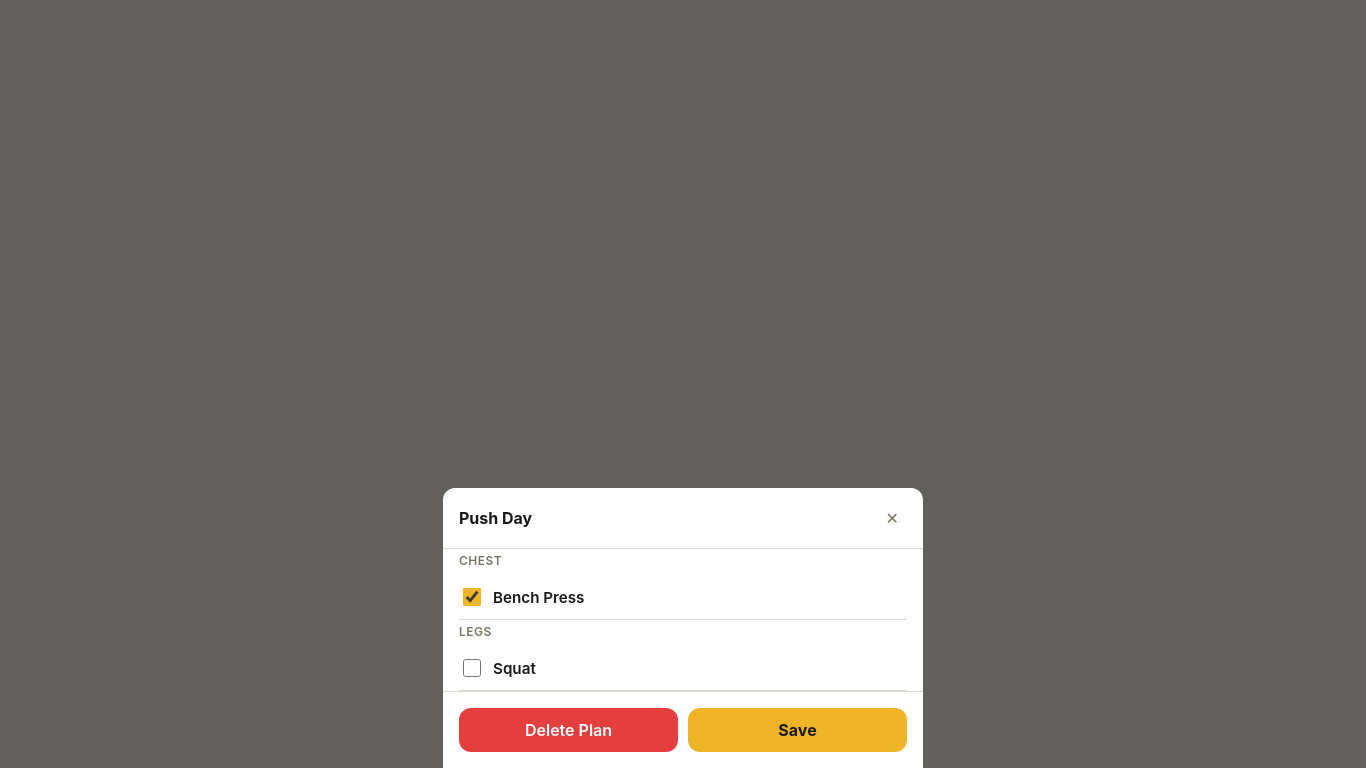
Test: PlanEditSheet › cancels deletion when dialog Cancel is clicked
Click the button "Delete Plan" at (568, 730), box [459, 708, 678, 752]
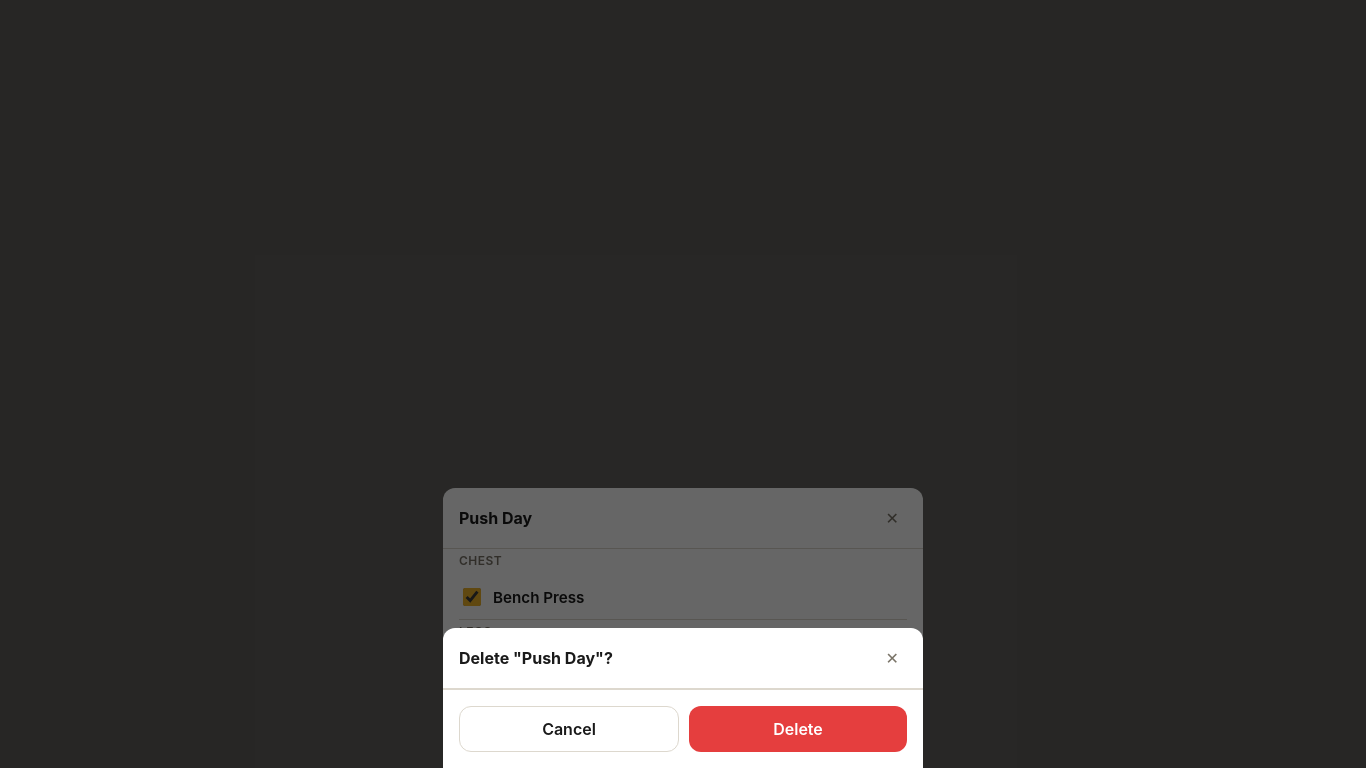
Click the button "Cancel" at (569, 729), box [459, 706, 679, 752]
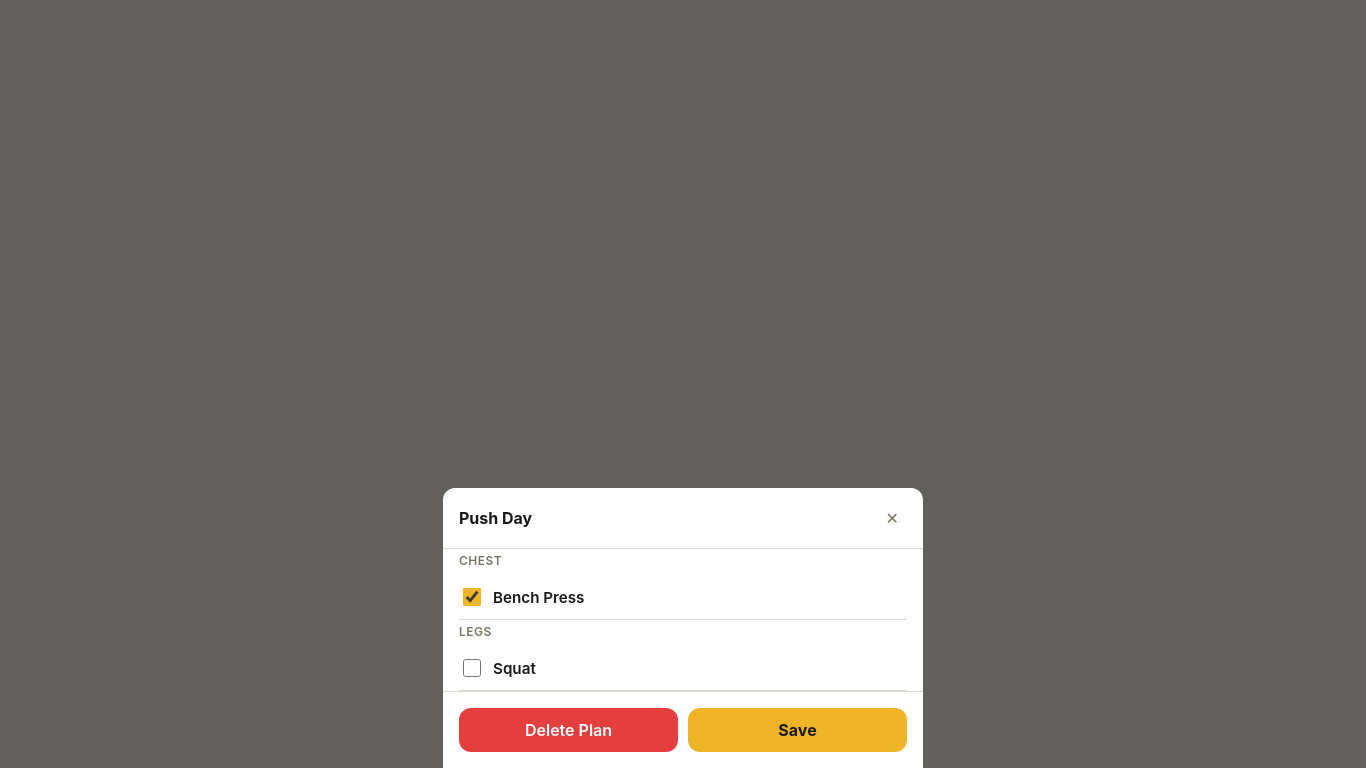
Result: the text "Delete \"Push Day\"" is gone
